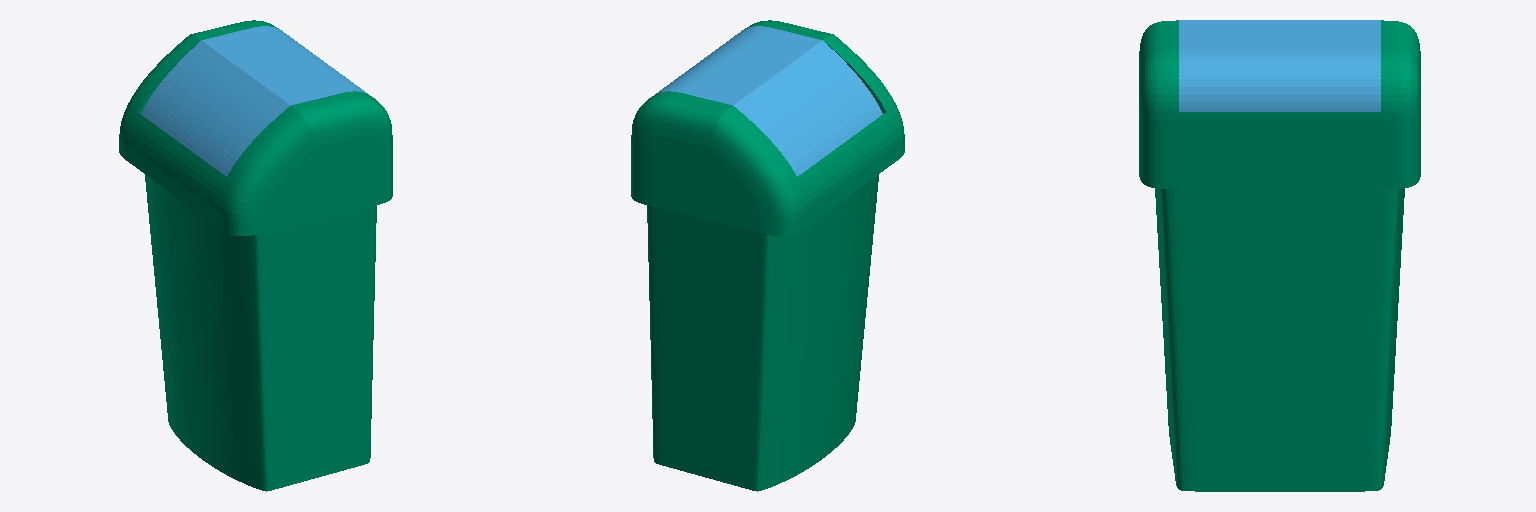
URDF robot description (partnet_f7c95d62feb4fb03c0d62fb4fabc5d06):
<?xml version="1.0" ?>
<robot name="partnet_f7c95d62feb4fb03c0d62fb4fabc5d06">
	<mujoco>
		<compiler meshdir="textured_objs" balanceinertia="true" discardvisual="false"/>
	</mujoco>
	<link name="base"/>
	<link name="link_0">
		<visual name="cover_lid-4">
			<origin xyz="0 -0.7335032620113939 -0.09666359346359968"/>
			<geometry>
				<mesh filename="textured_objs/original-5.obj"/>
			</geometry>
		</visual>
		<collision>
			<origin xyz="0 -0.7335032620113939 -0.09666359346359968"/>
			<geometry>
				<mesh filename="textured_objs/original-5.obj"/>
			</geometry>
		</collision>
	</link>
	<joint name="joint_0" type="revolute">
		<origin xyz="0 0.7335032620113939 0.09666359346359968"/>
		<axis xyz="1 0 0"/>
		<child link="link_0"/>
		<parent link="link_1"/>
		<limit lower="-1.9373154697137058" upper="3.6826447217080354"/>
	</joint>
	<link name="link_1">
		<visual name="container_box-7">
			<origin xyz="0 0 0"/>
			<geometry>
				<mesh filename="textured_objs/new-2.obj"/>
			</geometry>
		</visual>
		<visual name="container_bottom-8">
			<origin xyz="0 0 0"/>
			<geometry>
				<mesh filename="textured_objs/new-0.obj"/>
			</geometry>
		</visual>
		<visual name="container_bottom-8">
			<origin xyz="0 0 0"/>
			<geometry>
				<mesh filename="textured_objs/new-1.obj"/>
			</geometry>
		</visual>
		<visual name="cover_frame-5">
			<origin xyz="0 0 0"/>
			<geometry>
				<mesh filename="textured_objs/original-3.obj"/>
			</geometry>
		</visual>
		<visual name="cover_support-6">
			<origin xyz="0 0 0"/>
			<geometry>
				<mesh filename="textured_objs/original-6.obj"/>
			</geometry>
		</visual>
		<collision>
			<origin xyz="0 0 0"/>
			<geometry>
				<mesh filename="textured_objs/new-2.obj"/>
			</geometry>
		</collision>
		<!-- <collision>
			<origin xyz="0 0 0"/>
			<geometry>
				<mesh filename="textured_objs/new-0.obj"/>
			</geometry>
		</collision> -->
		<!-- <collision>
			<origin xyz="0 0 0"/>
			<geometry>
				<mesh filename="textured_objs/new-1.obj"/>
			</geometry>
		</collision> -->
		<collision>
			<origin xyz="0 0 0"/>
			<geometry>
				<mesh filename="textured_objs/original-3.obj"/>
			</geometry>
		</collision>
		<collision>
			<origin xyz="0 0 0"/>
			<geometry>
				<mesh filename="textured_objs/original-6.obj"/>
			</geometry>
		</collision>
	</link>
	<joint name="joint_1" type="fixed">
		<origin rpy="1.570796326794897 0 -1.570796326794897" xyz="0 0 0"/>
		<child link="link_1"/>
		<parent link="base"/>
	</joint>
</robot>

--- What the picture shows (computed from the rendered views, not written in the file) ---
Views: 3 orthographic renders of the robot side by side, from view 1: azimuth 30°, elevation 25°; view 2: azimuth 150°, elevation 25°; view 3: azimuth 270°, elevation 25°.
Model partnet_f7c95d62feb4fb03c0d62fb4fabc5d06 with 3 links and 2 joints (1 revolute, 1 fixed), rooted at base, posed every joint at zero.
Links seen in each view (by area): view 1: link_1, link_0; view 2: link_1, link_0; view 3: link_1, link_0.
Boxes of the visible links, left/top/right/bottom form: link_1: left=119, top=20, right=392, bottom=491; link_0: left=141, top=26, right=368, bottom=176; link_1: left=631, top=20, right=904, bottom=491; link_0: left=655, top=26, right=882, bottom=176; link_1: left=1139, top=20, right=1420, bottom=491; link_0: left=1179, top=20, right=1380, bottom=111.
Bounding box of the posed robot: 0.7737 × 1.01 × 1.67 m (x, y, z).
6 mesh visuals loaded from 6 distinct referenced files (6 OBJ).
